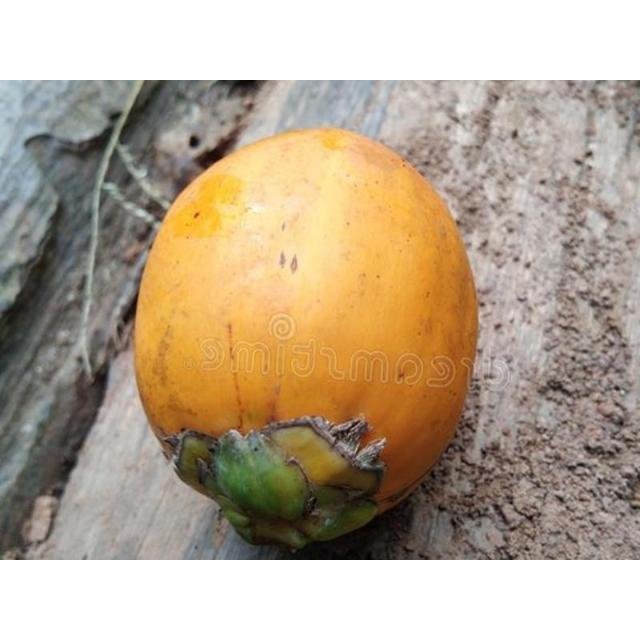good: (133, 126, 479, 553)
